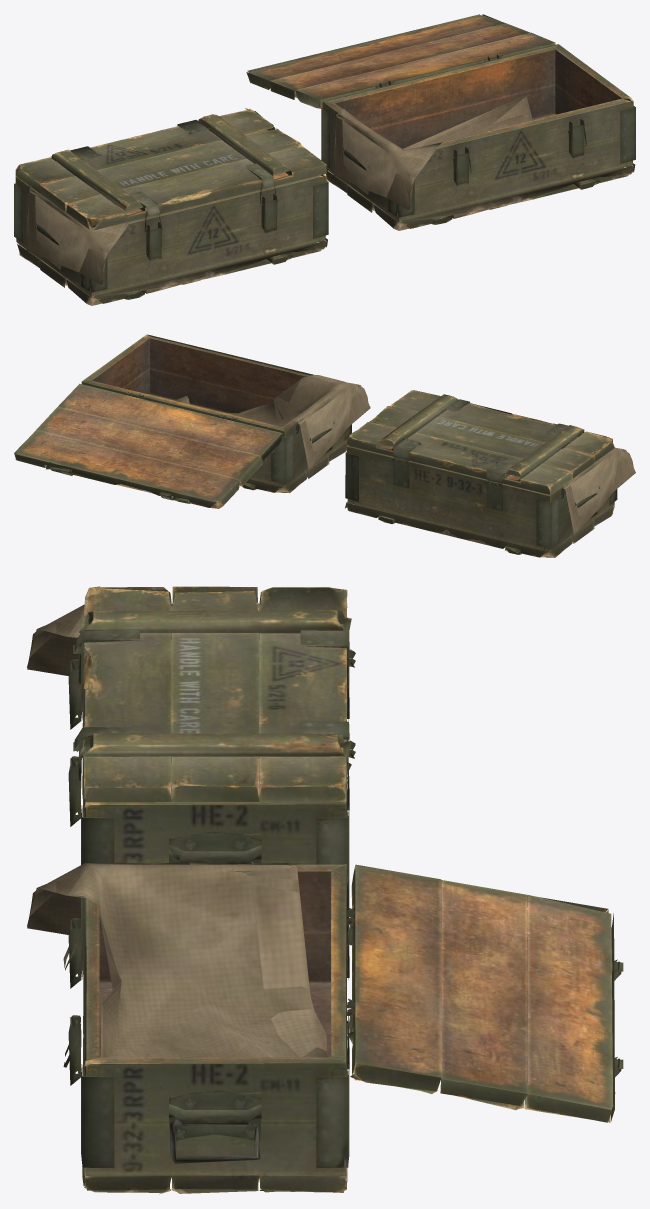
The model's file is ocrate.glb.
3 views of the same model, one above another, from view 1: azimuth 30°, elevation 25°; view 2: azimuth 150°, elevation 25°; view 3: azimuth 270°, elevation 25° (orthographic). The views are drawn at different scales.
Parts seen in each view (by area): view 1: old_military_crate_lid_a; view 2: old_military_crate_lid_a; view 3: old_military_crate_lid_a.
Boxes of the visible parts, box(x1,y1,x2,y2) form: old_military_crate_lid_a: box(14, 14, 635, 305); old_military_crate_lid_a: box(14, 334, 635, 557); old_military_crate_lid_a: box(27, 586, 623, 1194).
Size of the model in its own units: 1.81 by 0.3005 by 0.9735.
1 material, 1 textured.
